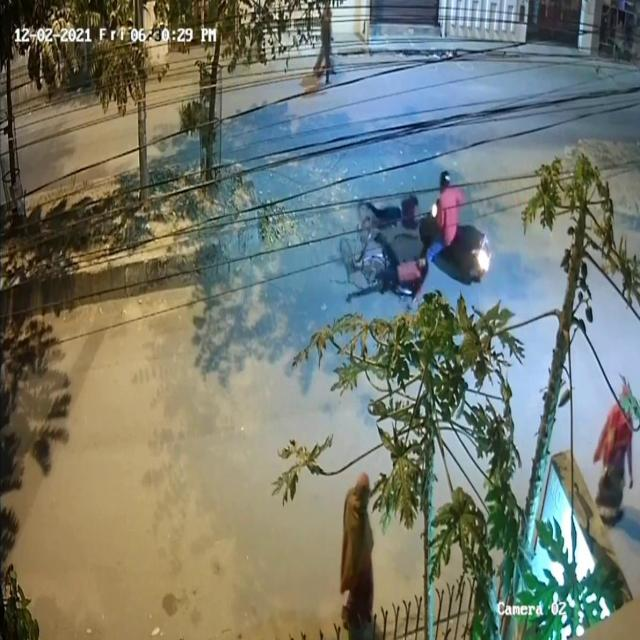accident: (343, 161, 494, 325)
